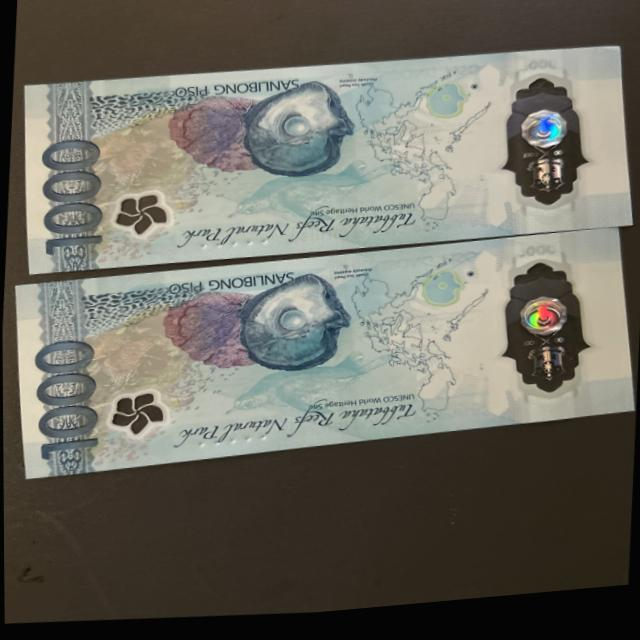clear_window: (494, 256, 605, 418), (491, 84, 597, 221)
sampaguita: (102, 384, 169, 448), (115, 189, 174, 241)
value: (22, 337, 110, 462), (32, 139, 109, 260)
